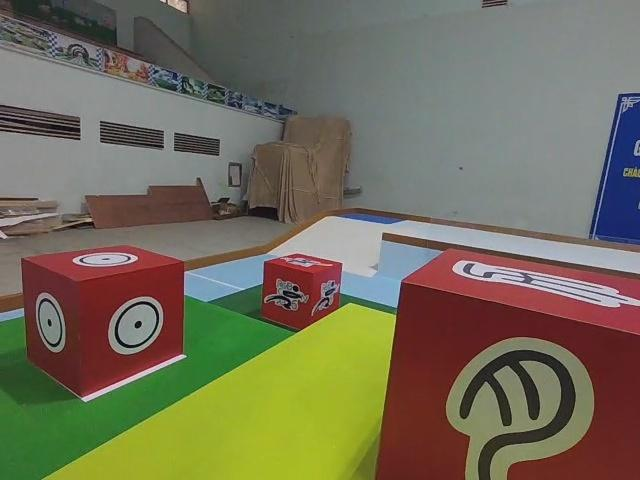R1: (260, 250, 344, 331)
R2 Fake: (372, 245, 640, 480)
R2 Real: (19, 241, 187, 400)
